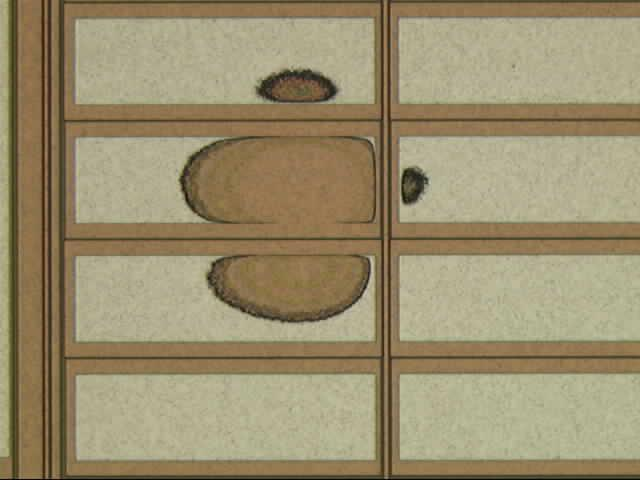BLOCK ETCH: (182, 71, 432, 322)
